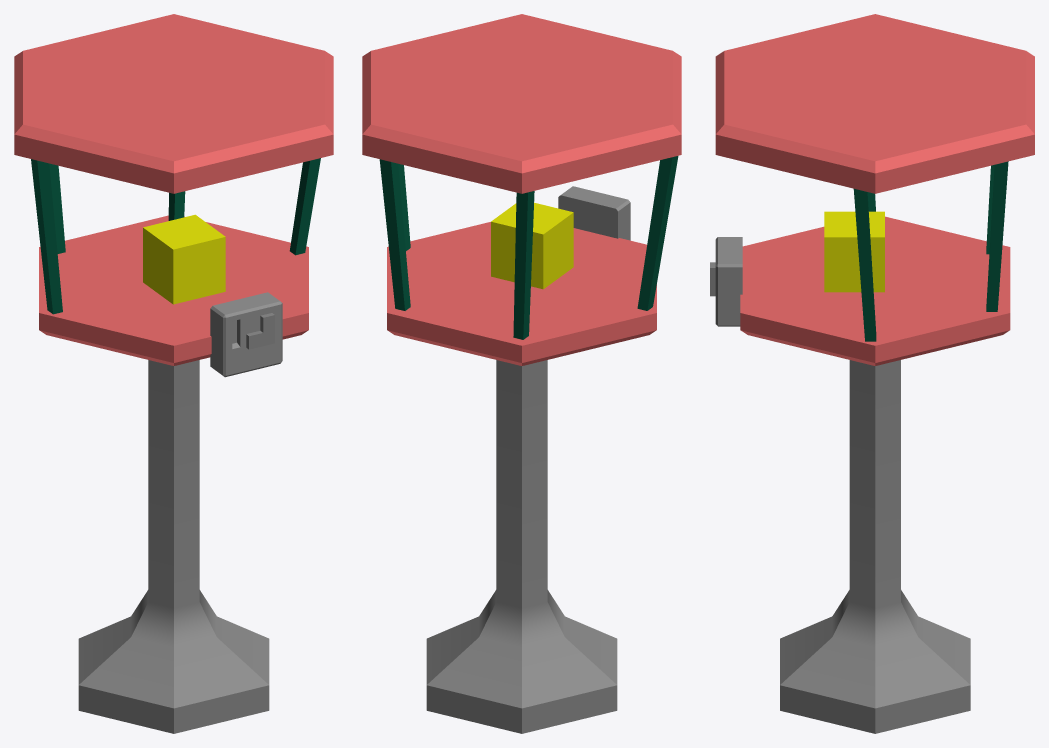
The model's file is Color_Box.fbx.
3 renders of one model, left to right at view 1: azimuth 30°, elevation 25°; view 2: azimuth 150°, elevation 25°; view 3: azimuth 270°, elevation 25°, orthographic.
Parts seen in each view (by area): view 1: Box, Stand1, Cub, Button; view 2: Box, Stand1, Cub, Button; view 3: Box, Stand1, Cub, Button.
Part boxes in pixels (<box>): Box: <box>14,14,333,365</box>; Stand1: <box>78,360,269,733</box>; Cub: <box>143,214,225,304</box>; Button: <box>210,292,282,377</box>; Box: <box>362,14,681,365</box>; Stand1: <box>426,360,617,733</box>; Cub: <box>491,202,573,289</box>; Button: <box>558,186,630,240</box>; Box: <box>715,14,1034,365</box>; Stand1: <box>780,360,970,733</box>; Cub: <box>824,211,884,292</box>; Button: <box>710,237,742,326</box>.
Bounding box in the file's own units: 2.53 × 4.53 × 2.23.
